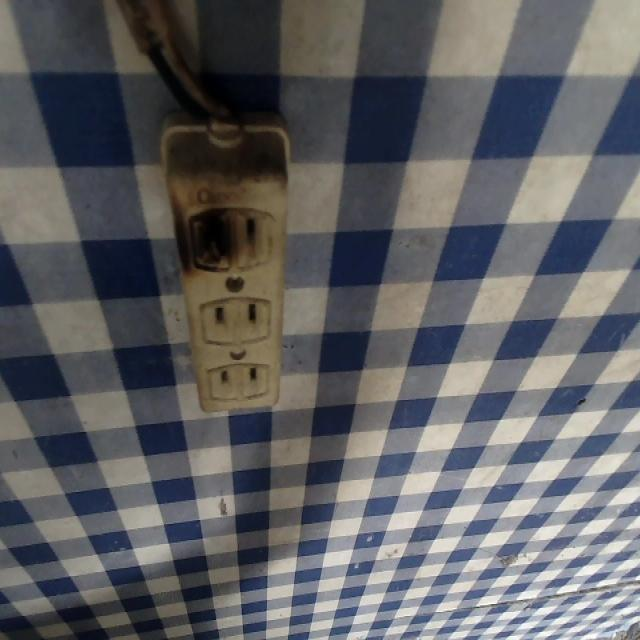-: (176, 189, 237, 283)
